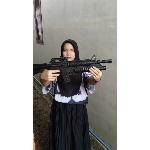Senapan: (34, 54, 116, 84)
